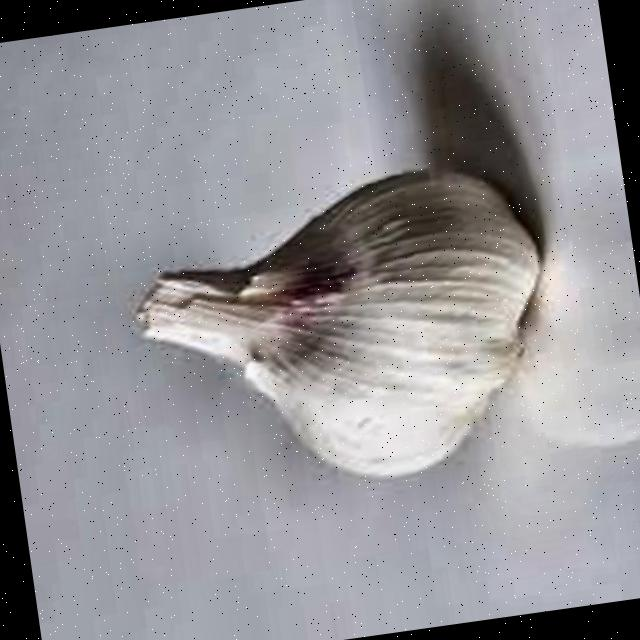garlic: (132, 169, 538, 475)
